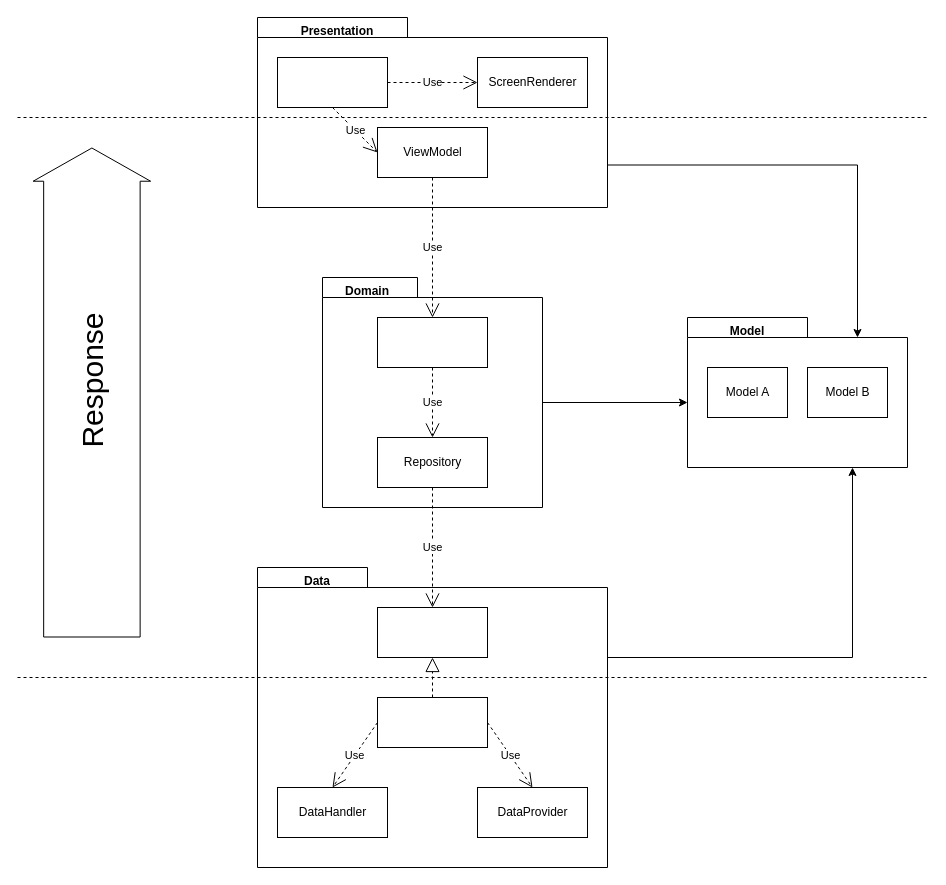
Some shapes in this 946 by 885 pixel diagram are drawn without their labels. Here are the shapes that lost their labels. From the top down, the box of each, then its label:
(276, 56, 388, 108): Activities
(376, 316, 488, 368): Service
(376, 606, 488, 658): «interface» DataSource
(376, 696, 488, 748): DataManager
